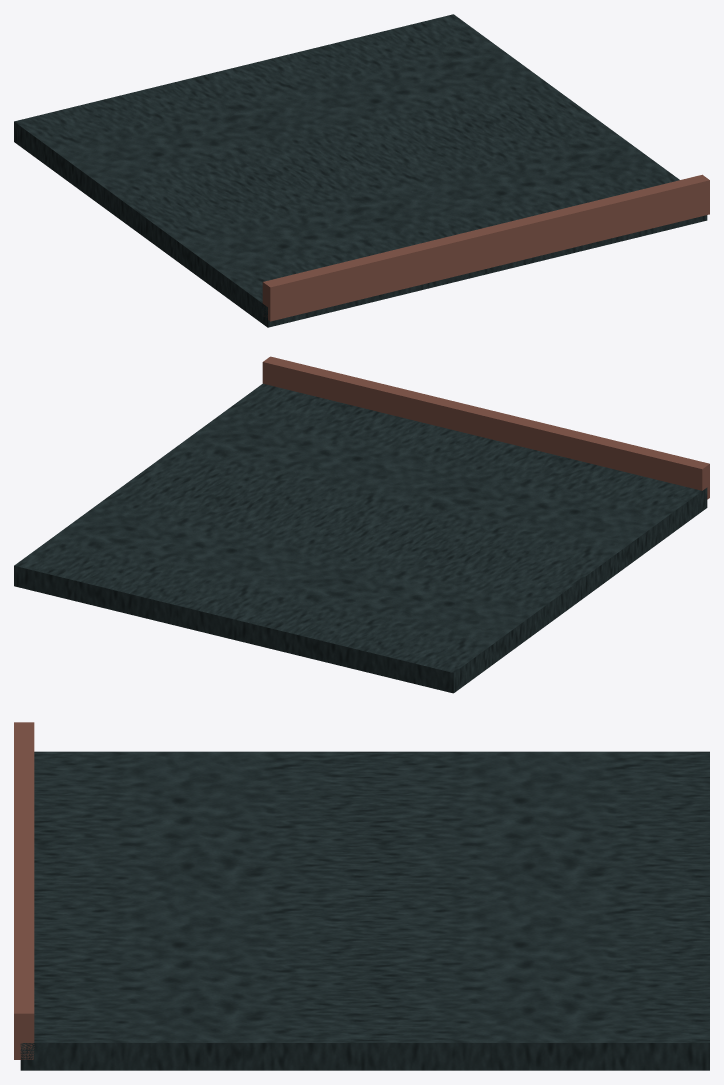
Rendered from Roof_Flat_2x2.glb.
The picture shows the model from 3 angles, top to bottom: view 1: azimuth 30°, elevation 25°; view 2: azimuth 150°, elevation 25°; view 3: azimuth 270°, elevation 25°; orthographic projection. The views are drawn at different scales.
Visible parts, largest first — view 1: Roof_Flat_2x2; view 2: Roof_Flat_2x2; view 3: Roof_Flat_2x2.
Boxes of the visible parts, x1,y1,x2,y2 form: Roof_Flat_2x2: [14, 14, 709, 327]; Roof_Flat_2x2: [14, 356, 709, 693]; Roof_Flat_2x2: [14, 722, 709, 1070].
Size of the model in its own units: 2.02 by 0.185 by 2.04.
2 materials, 1 textured.
